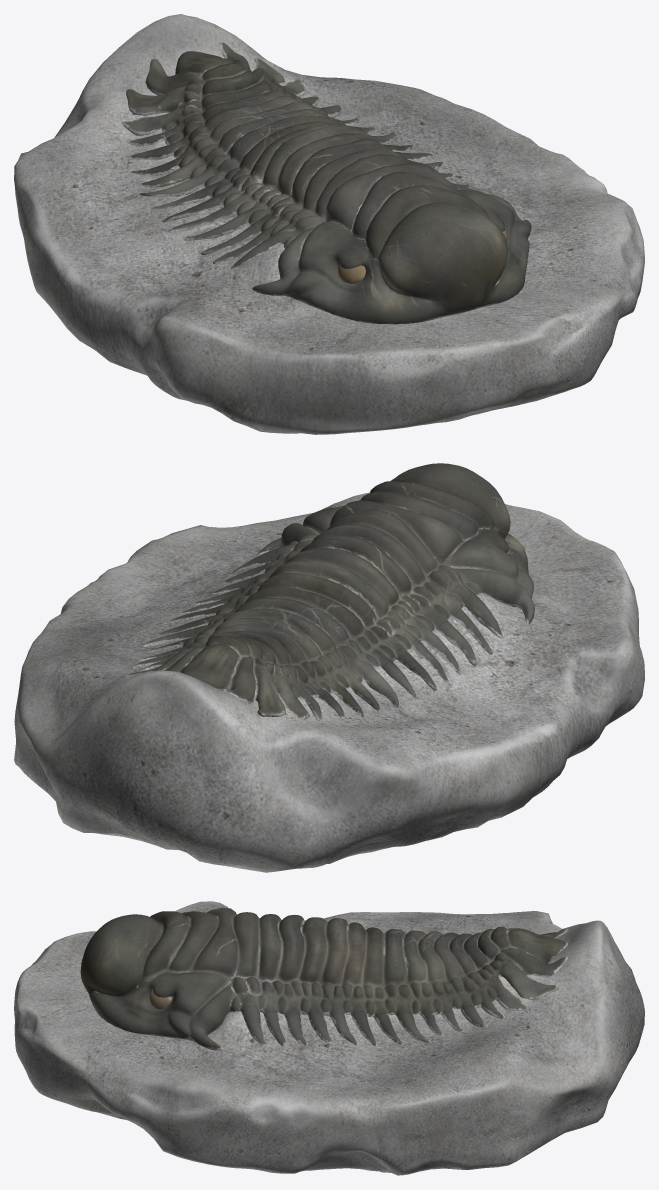
The model's file is Trilobite_fossil_Low.glb.
3 views of the same model, one above another, from view 1: azimuth 30°, elevation 25°; view 2: azimuth 150°, elevation 25°; view 3: azimuth 270°, elevation 25° (orthographic). The views are drawn at different scales.
Visible parts, largest first — view 1: Trilobite_Fossil; view 2: Trilobite_Fossil; view 3: Trilobite_Fossil.
Boxes of the visible parts, left/top/right/bottom form: Trilobite_Fossil: left=14, top=14, right=644, bottom=434; Trilobite_Fossil: left=14, top=463, right=644, bottom=872; Trilobite_Fossil: left=14, top=901, right=644, bottom=1175.
Size of the model in its own units: 25.43 by 9.86 by 32.75.
3 materials, 3 textured.
